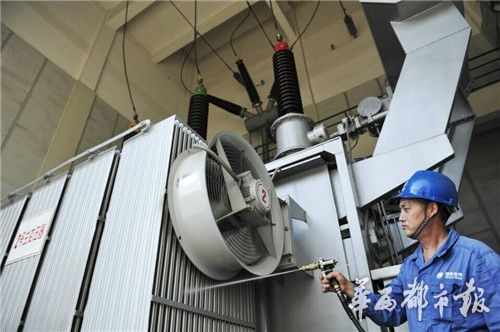blue: (397, 169, 459, 240)
